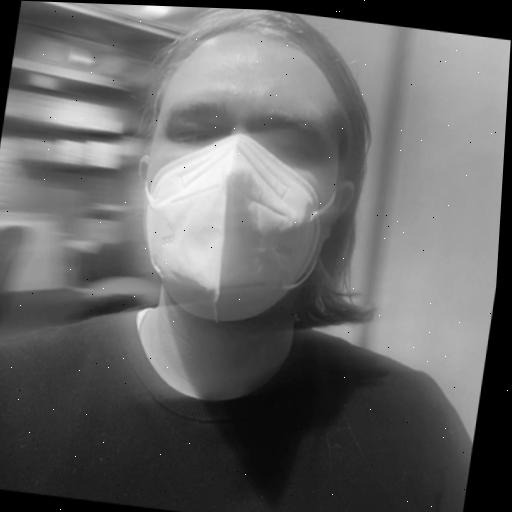mask: (100, 4, 414, 347)
